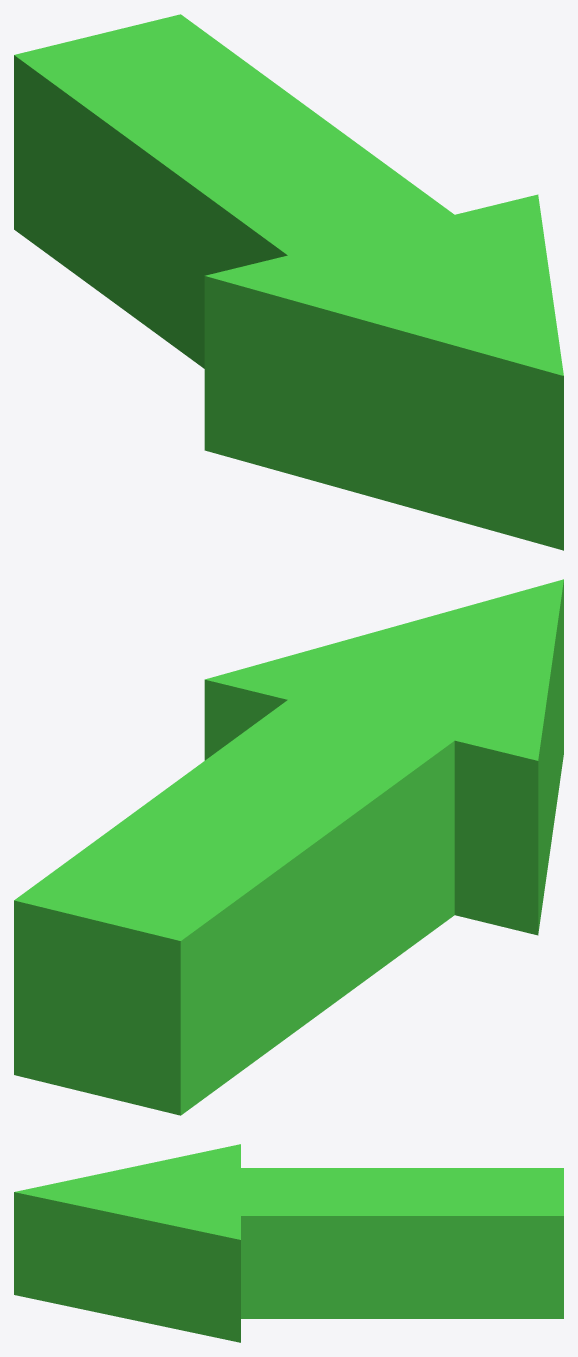
The model's file is arrow.glb.
3 views of the same model, one above another, from view 1: azimuth 30°, elevation 25°; view 2: azimuth 150°, elevation 25°; view 3: azimuth 270°, elevation 25° (orthographic). The views are drawn at different scales.
Visible parts, largest first — view 1: Arrow; view 2: Arrow; view 3: Arrow.
Part boxes in pixels (<box>): Arrow: <box>14,14,563,550</box>; Arrow: <box>14,579,563,1115</box>; Arrow: <box>14,1144,563,1342</box>.
Bounding box in the file's own units: 4 × 2 × 9.69.
